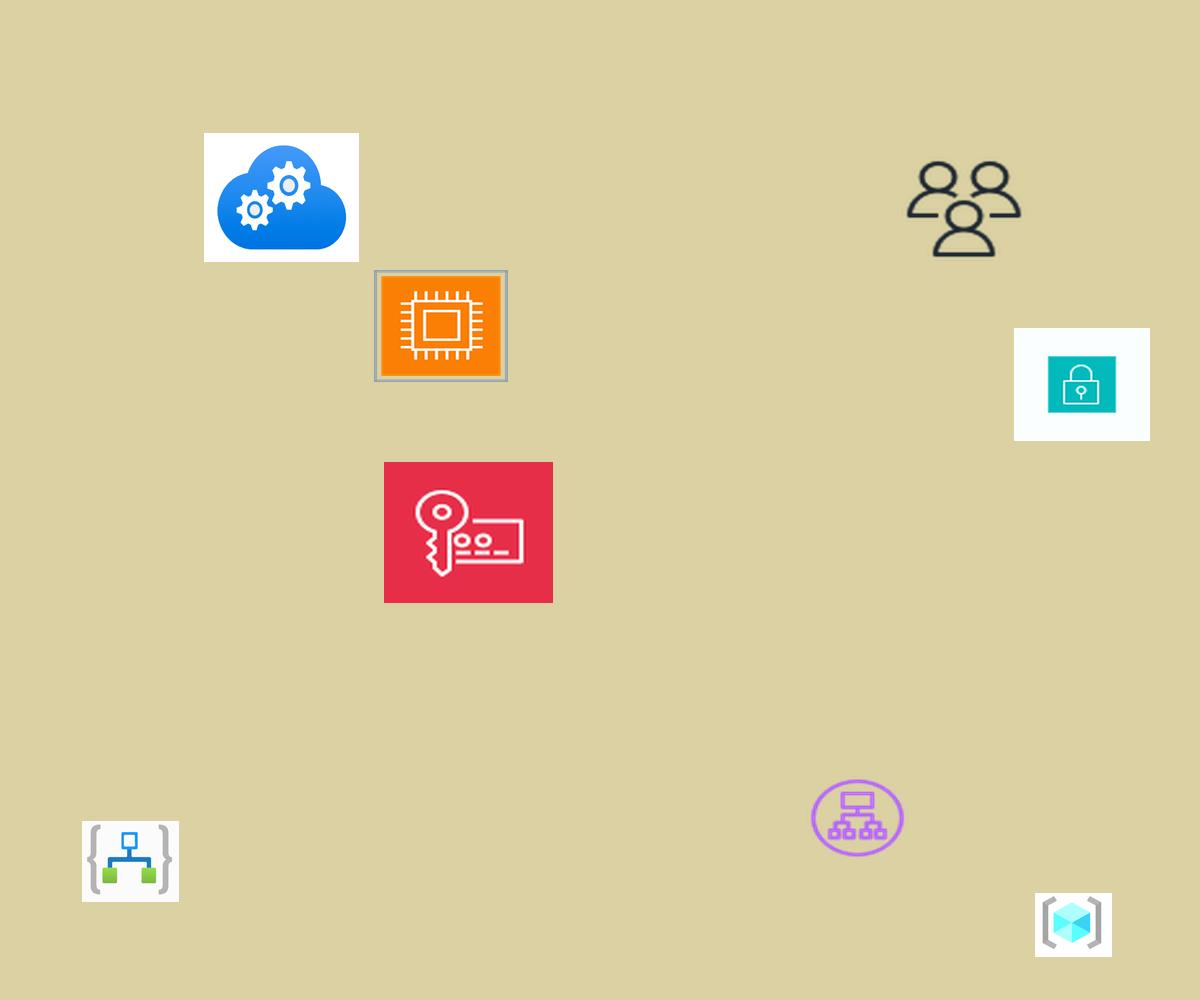AWS-Category_Compute: (374, 270, 508, 382)
AWS-Key-Management-Service: (384, 462, 553, 603)
AWS-Private-subnet: (1014, 328, 1150, 441)
AWS-Res_Elastic-Load-Balancing_Application-Load-Balancer: (807, 776, 908, 860)
AWS-Res_Users: (902, 157, 1026, 261)
Azure_cloud_services: (204, 133, 359, 262)
Azure_integration-204-Logic-Apps: (82, 821, 179, 902)
Azure_resource_group: (1035, 893, 1112, 957)
